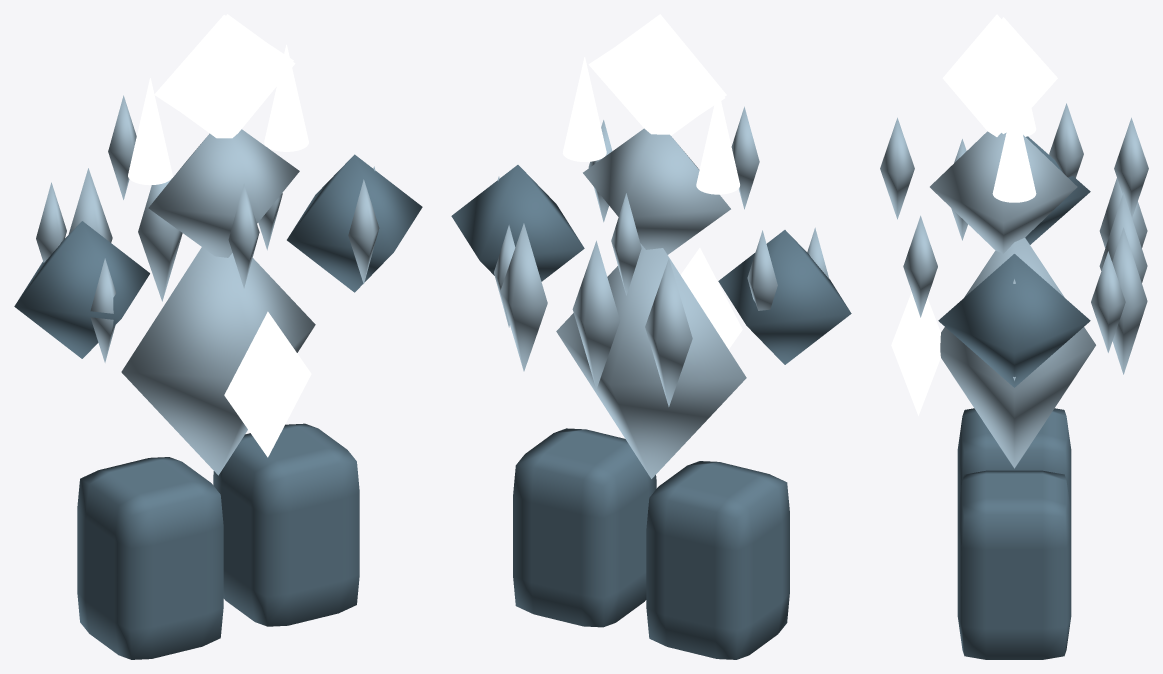
Rendered from ice-giant.glb.
The picture shows the model from 3 angles, left to right: view 1: azimuth 30°, elevation 25°; view 2: azimuth 150°, elevation 25°; view 3: azimuth 270°, elevation 25°; orthographic projection. The views are drawn at different scales.
Parts seen in each view (by area): view 1: leftLeg, rightLeg, torso, head, shoulder-1, IceCrown, shoulder1, core, horn-1, backShard1, horn1, IceShard1 (+5 smaller); view 2: leftLeg, rightLeg, torso, head, FrostCrown, shoulder-1, shoulder1, backShard0, backShard2, backShard1, horn-1, horn1 (+6 smaller); view 3: rightLeg, shoulder1, torso, head, leftLeg, IceCrown, core, FrostCrown, backShard2, horn1, IceShard1, IceShard2 (+6 smaller).
Part boxes in pixels (x1=…): leftLeg: x1=77, y1=457, x2=223, y2=659; rightLeg: x1=213, y1=423, x2=359, y2=626; torso: x1=121, y1=247, x2=315, y2=475; head: x1=148, y1=129, x2=299, y2=257; shoulder-1: x1=14, y1=221, x2=149, y2=358; IceCrown: x1=159, y1=14, x2=295, y2=138; shoulder1: x1=287, y1=154, x2=422, y2=292; core: x1=224, y1=311, x2=311, y2=457; horn-1: x1=128, y1=78, x2=172, y2=185; backShard1: x1=138, y1=178, x2=182, y2=301; horn1: x1=264, y1=44, x2=308, y2=151; IceShard1: x1=348, y1=179, x2=379, y2=284; leftLeg: x1=646, y1=461, x2=789, y2=659; rightLeg: x1=513, y1=428, x2=656, y2=627; torso: x1=556, y1=243, x2=746, y2=478; head: x1=583, y1=128, x2=730, y2=254; FrostCrown: x1=588, y1=19, x2=725, y2=134; shoulder-1: x1=718, y1=230, x2=851, y2=364; shoulder1: x1=451, y1=165, x2=584, y2=281; backShard0: x1=645, y1=258, x2=692, y2=406; backShard2: x1=500, y1=223, x2=547, y2=371; backShard1: x1=572, y1=240, x2=619, y2=389; horn-1: x1=696, y1=89, x2=739, y2=194; horn1: x1=562, y1=57, x2=606, y2=161; rightLeg: x1=957, y1=470, x2=1071, y2=659; shoulder1: x1=938, y1=254, x2=1090, y2=387; torso: x1=940, y1=238, x2=1095, y2=468; head: x1=930, y1=131, x2=1077, y2=253; leftLeg: x1=957, y1=408, x2=1071, y2=512; IceCrown: x1=942, y1=14, x2=1001, y2=136; core: x1=891, y1=292, x2=940, y2=415; FrostCrown: x1=999, y1=17, x2=1057, y2=133; backShard2: x1=1112, y1=227, x2=1147, y2=374; horn1: x1=992, y1=98, x2=1036, y2=202; IceShard1: x1=903, y1=215, x2=937, y2=317; IceShard2: x1=880, y1=117, x2=914, y2=219.
Size of the model in its own units: 2.1 by 3.03 by 1.23.
